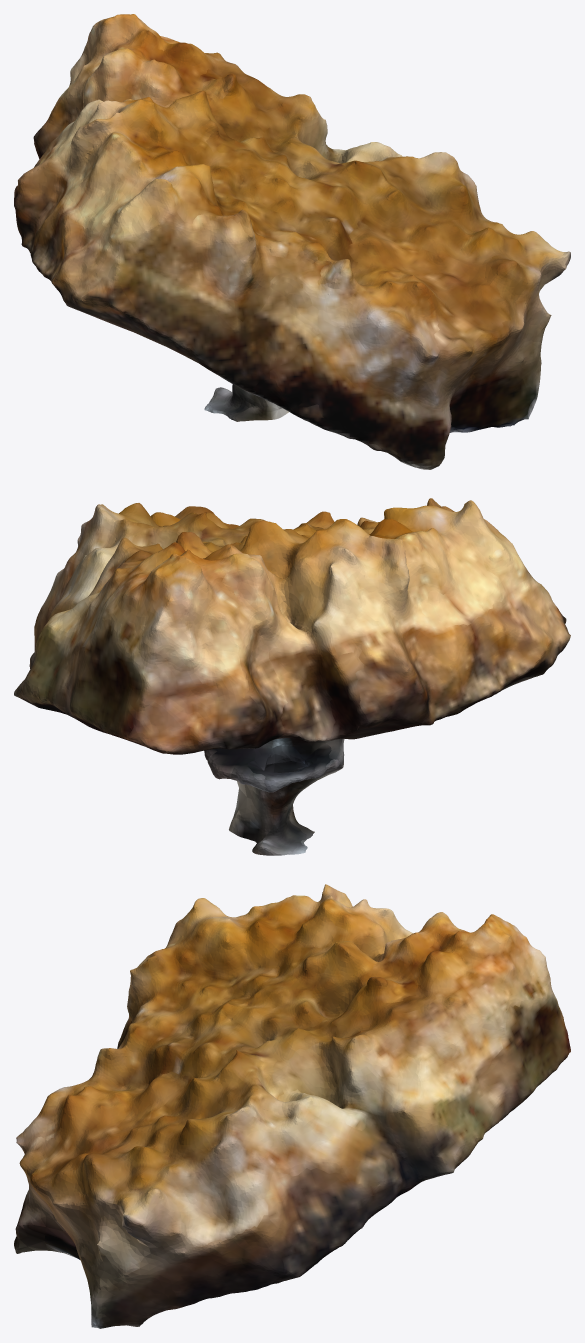
The model's file is Scaniverse 2024-03-25 140350.glb.
3 views of the same model, one above another, from view 1: azimuth 30°, elevation 25°; view 2: azimuth 150°, elevation 25°; view 3: azimuth 270°, elevation 25° (orthographic). The views are drawn at different scales.
Visible parts, largest first — view 1: mesh; view 2: mesh; view 3: mesh.
Part boxes in pixels (box(x1,y1,x2,y2)): mesh: box(14, 14, 570, 469); mesh: box(14, 498, 570, 855); mesh: box(14, 884, 570, 1328).
Bounding box in the file's own units: 0.0995 × 0.0672 × 0.1051.
Materials: 1 (1 with a texture image).
